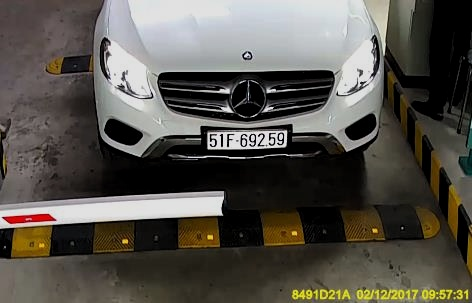plate: (205, 126, 288, 153)
